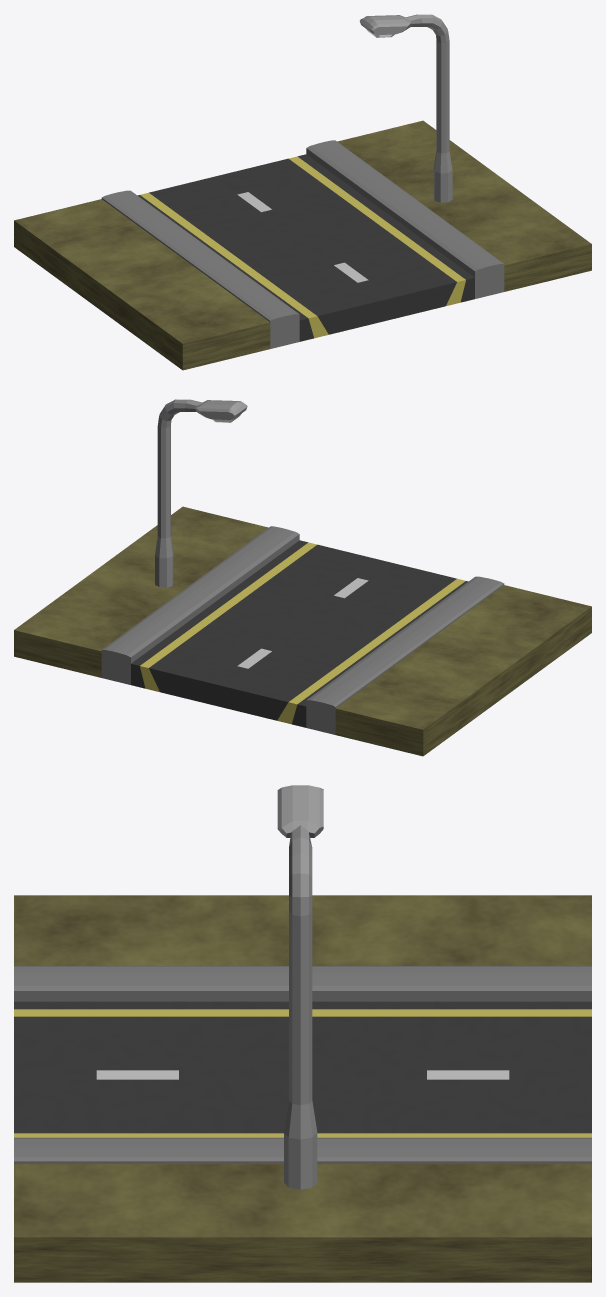
Rendered from Road(L)1.fbx.
3 renders of one model, top to bottom at view 1: azimuth 30°, elevation 25°; view 2: azimuth 150°, elevation 25°; view 3: azimuth 270°, elevation 25°, orthographic. The views are drawn at different scales.
Parts seen in each view (by area): view 1: Road(R); view 2: Road(R); view 3: Road(R).
Boxes of the visible parts, left/top/right/bottom form: Road(R): left=14, top=14, right=591, bottom=370; Road(R): left=14, top=399, right=591, bottom=756; Road(R): left=14, top=785, right=591, bottom=1282.
Size of the model in its own units: 1400 by 732 by 1000.
Materials: 8 (2 with a texture image).
